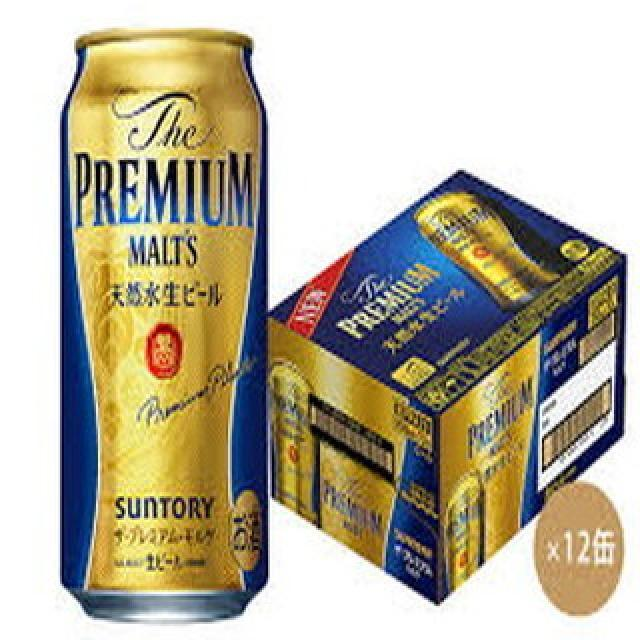can: (58, 26, 276, 621)
